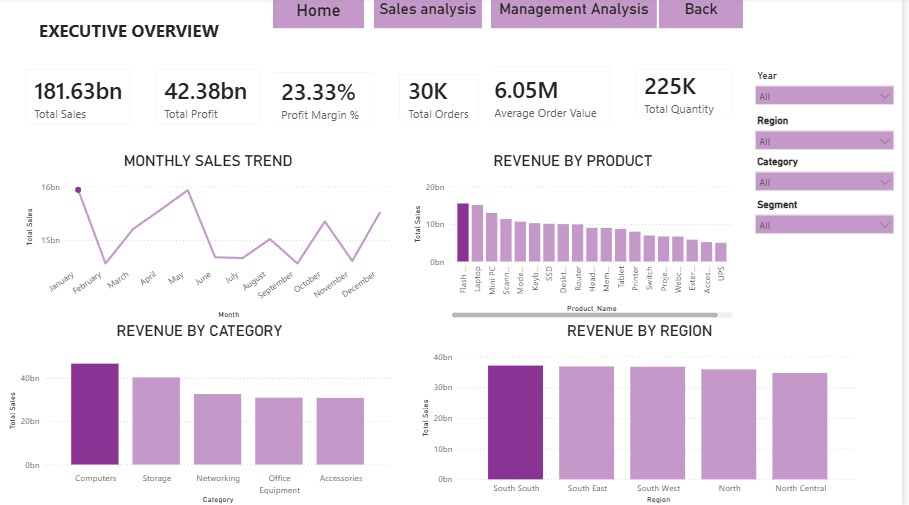

The dashboard page shown, as its layout file describes it:
{"tool":"powerbi","page":{"name":"Executive Overview","canvas":[1280,720],"ordinal":0},"visuals":[{"type":"cardVisual","fields":{"Data":["Dim_Customers.Total Sales"]},"box":[21.8,84,183.1,112.5],"z":0},{"type":"cardVisual","fields":{"Data":["Dim_Customers.Average Order Value"]},"box":[673.6,79,211.7,117.6],"z":1000},{"type":"cardVisual","fields":{"Data":["Dim_Customers.Profit Margin %"]},"box":[371.2,87.3,179.7,107.5],"z":2000},{"type":"cardVisual","fields":{"Data":["Dim_Customers.Total Orders"]},"box":[551,90.7,147.8,100.8],"z":3000},{"type":"cardVisual","fields":{"Data":["Dim_Customers.Total Profit"]},"box":[204.9,84,184.8,112.5],"z":4000},{"type":"lineChart","title":"MONTHLY SALES TREND","fields":{"Y":["Dim_Customers.Total Sales"],"Category":["Dim_Date.Date.Variation.Date Hierarchy.Month"]},"box":[33.6,218.4,527.5,240.2],"z":5000},{"type":"clusteredColumnChart","title":"REVENUE BY PRODUCT","fields":{"Y":["Dim_Customers.Total Sales"],"Category":["Dim_Products.Product_Name"]},"box":[584.6,218.4,461.9,240.2],"z":6000},{"type":"columnChart","title":"REVENUE BY REGION","fields":{"Y":["Dim_Customers.Total Sales"],"Category":["Dim_Customers.Region"]},"box":[594.6,458.6,628.2,262],"z":7000},{"type":"textbox","box":[0,23.5,371.2,60.5],"z":8000},{"type":"clusteredColumnChart","title":"REVENUE BY CATEGORY","fields":{"Y":["Dim_Customers.Total Sales"],"Category":["Dim_Products.Category"]},"box":[10.1,458.6,551,262],"z":9000},{"type":"cardVisual","fields":{"Data":["Dim_Customers.Total Quantity"]},"box":[885.2,84,171.3,100.8],"z":10000},{"type":"actionButton","title":"Home","box":[389.7,3.4,129.3,40.3],"z":11000},{"type":"actionButton","title":"Sales analysis","box":[532.5,3.4,152.9,40.3],"z":12000},{"type":"actionButton","title":"Management Analysis","box":[698.8,3.4,235.2,40.3],"z":13000},{"type":"actionButton","title":"Back","box":[937.3,3.4,119.3,40.3],"z":14000},{"type":"slicer","fields":{"Values":["Dim_Date.Date.Variation.Date Hierarchy.Year"]},"box":[1063.3,95.7,216.7,63.8],"z":15000},{"type":"slicer","fields":{"Values":["Dim_Customers.Region"]},"box":[1063.3,159.6,216.7,62.2],"z":16000},{"type":"slicer","fields":{"Values":["Dim_Customers.Segment"]},"box":[1063.3,278.8,216.7,60.5],"z":17000},{"type":"slicer","fields":{"Values":["Dim_Products.Category"]},"box":[1063.3,218.4,216.7,60.5],"z":18000}]}

Visuals, with their boxes in screenshot pixels (x1, y1, x2, y2), scaled from the page's 1280x720 canvas onto the 909x505 screenshot:
cardVisual - Dim_Customers.Total Sales: (left=15, top=59, right=146, bottom=138)
cardVisual - Dim_Customers.Average Order Value: (left=478, top=55, right=629, bottom=138)
cardVisual - Dim_Customers.Profit Margin %: (left=264, top=61, right=391, bottom=137)
cardVisual - Dim_Customers.Total Orders: (left=391, top=64, right=496, bottom=134)
cardVisual - Dim_Customers.Total Profit: (left=146, top=59, right=277, bottom=138)
"MONTHLY SALES TREND" lineChart: (left=24, top=153, right=398, bottom=322)
"REVENUE BY PRODUCT" clusteredColumnChart: (left=415, top=153, right=743, bottom=322)
"REVENUE BY REGION" columnChart: (left=422, top=322, right=868, bottom=504)
textbox: (left=0, top=16, right=264, bottom=59)
"REVENUE BY CATEGORY" clusteredColumnChart: (left=7, top=322, right=398, bottom=504)
cardVisual - Dim_Customers.Total Quantity: (left=629, top=59, right=750, bottom=130)
"Home" actionButton: (left=277, top=2, right=369, bottom=31)
"Sales analysis" actionButton: (left=378, top=2, right=487, bottom=31)
"Management Analysis" actionButton: (left=496, top=2, right=663, bottom=31)
"Back" actionButton: (left=666, top=2, right=750, bottom=31)
slicer - Dim_Date.Date.Variation.Date Hierarchy.Year: (left=755, top=67, right=908, bottom=112)
slicer - Dim_Customers.Region: (left=755, top=112, right=908, bottom=156)
slicer - Dim_Customers.Segment: (left=755, top=196, right=908, bottom=238)
slicer - Dim_Products.Category: (left=755, top=153, right=908, bottom=196)
